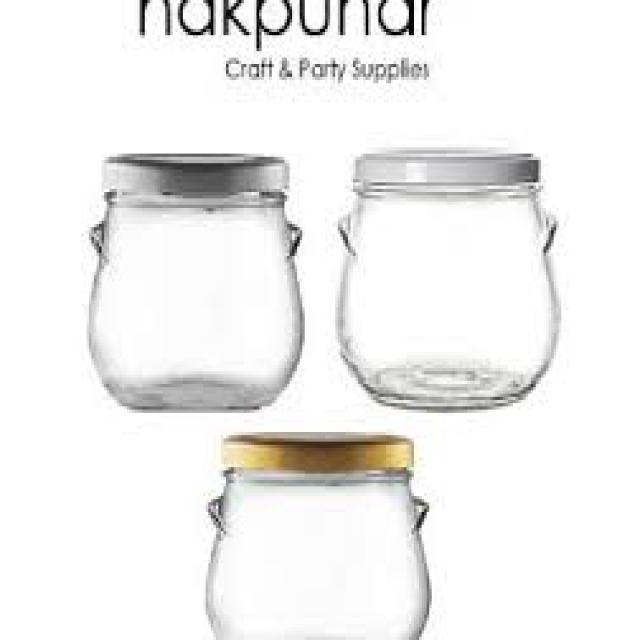glass: (333, 183, 556, 407), (87, 192, 303, 406), (206, 464, 432, 637)
metal: (99, 151, 284, 199), (350, 147, 536, 192), (216, 432, 409, 467)
